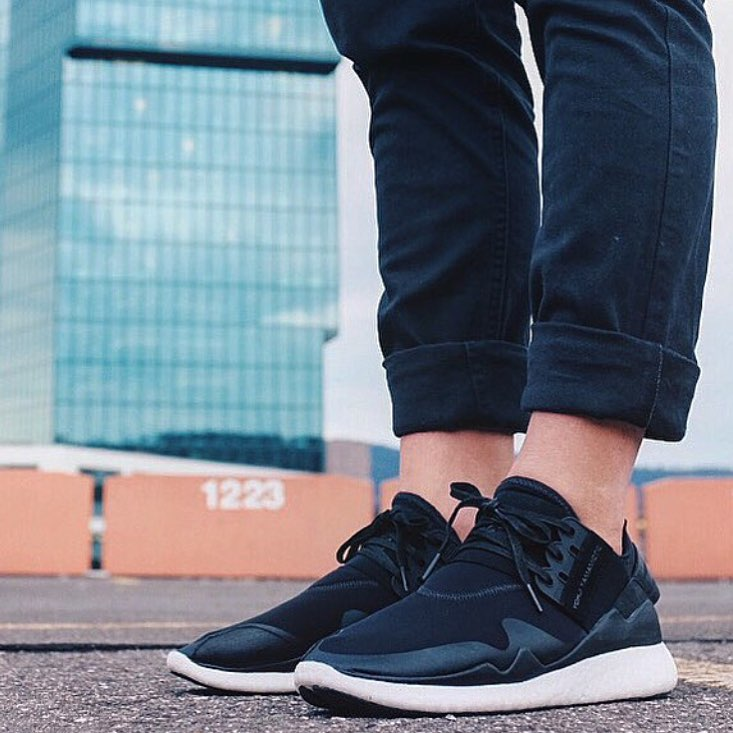sneaker: (268, 439, 702, 730), (146, 435, 524, 713)
